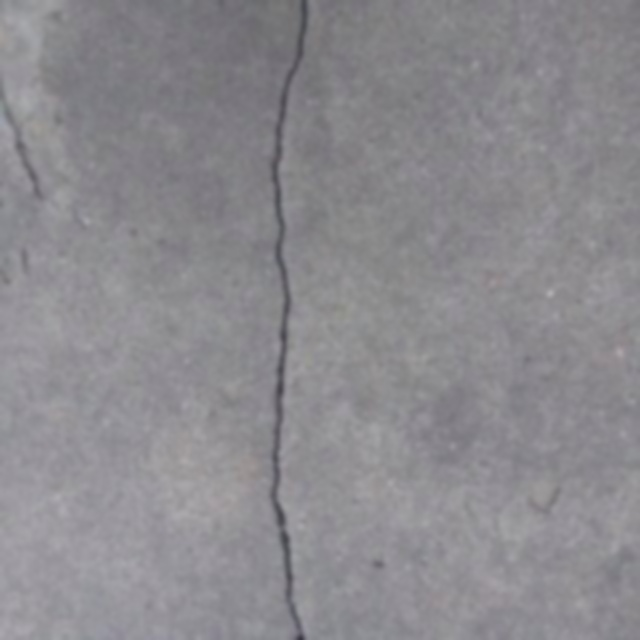SurfaceCrack: (244, 2, 346, 640)
